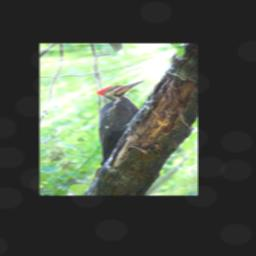Woodpecker: (94, 80, 146, 166)
